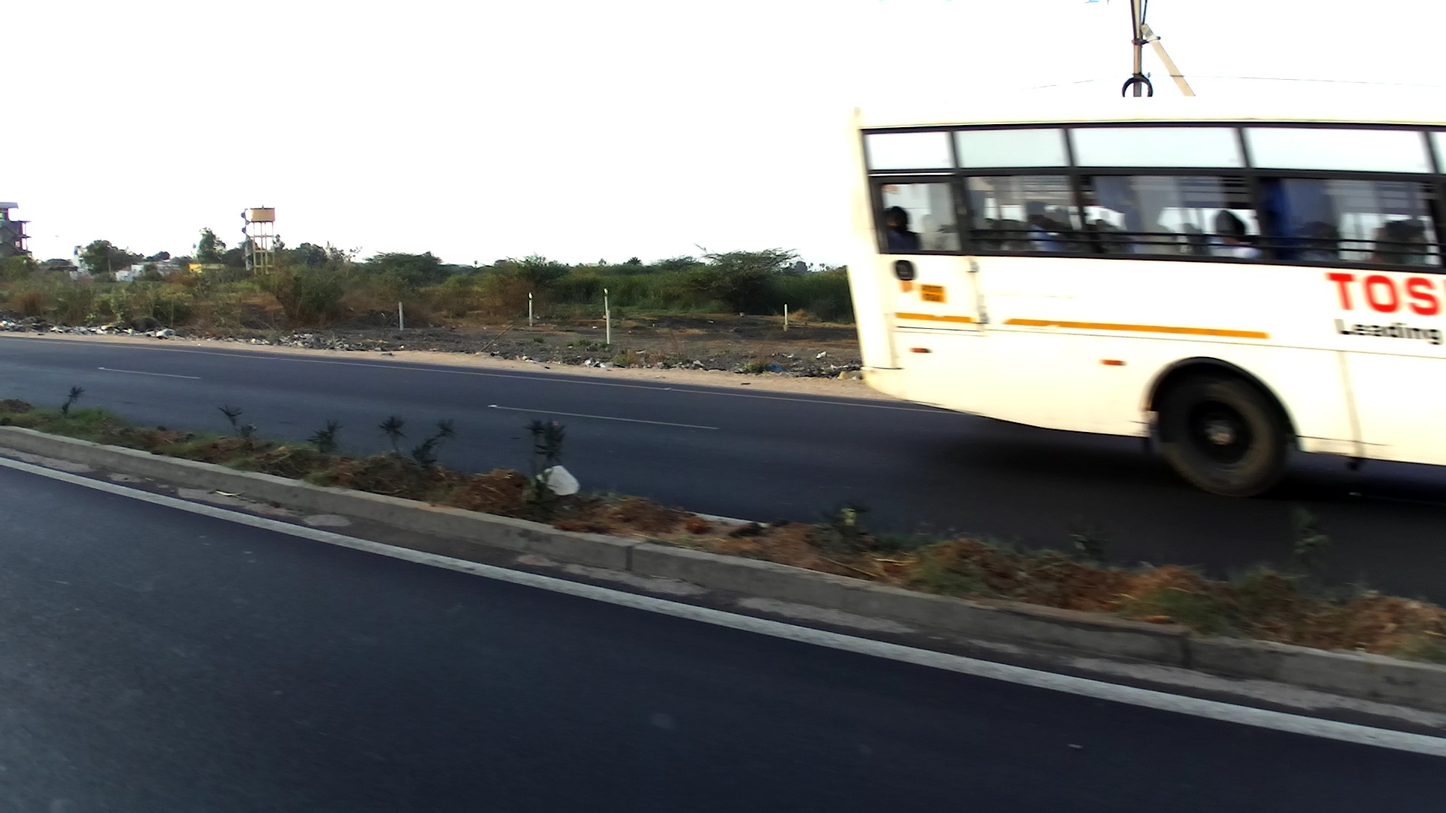bus: (825, 78, 1444, 492)
